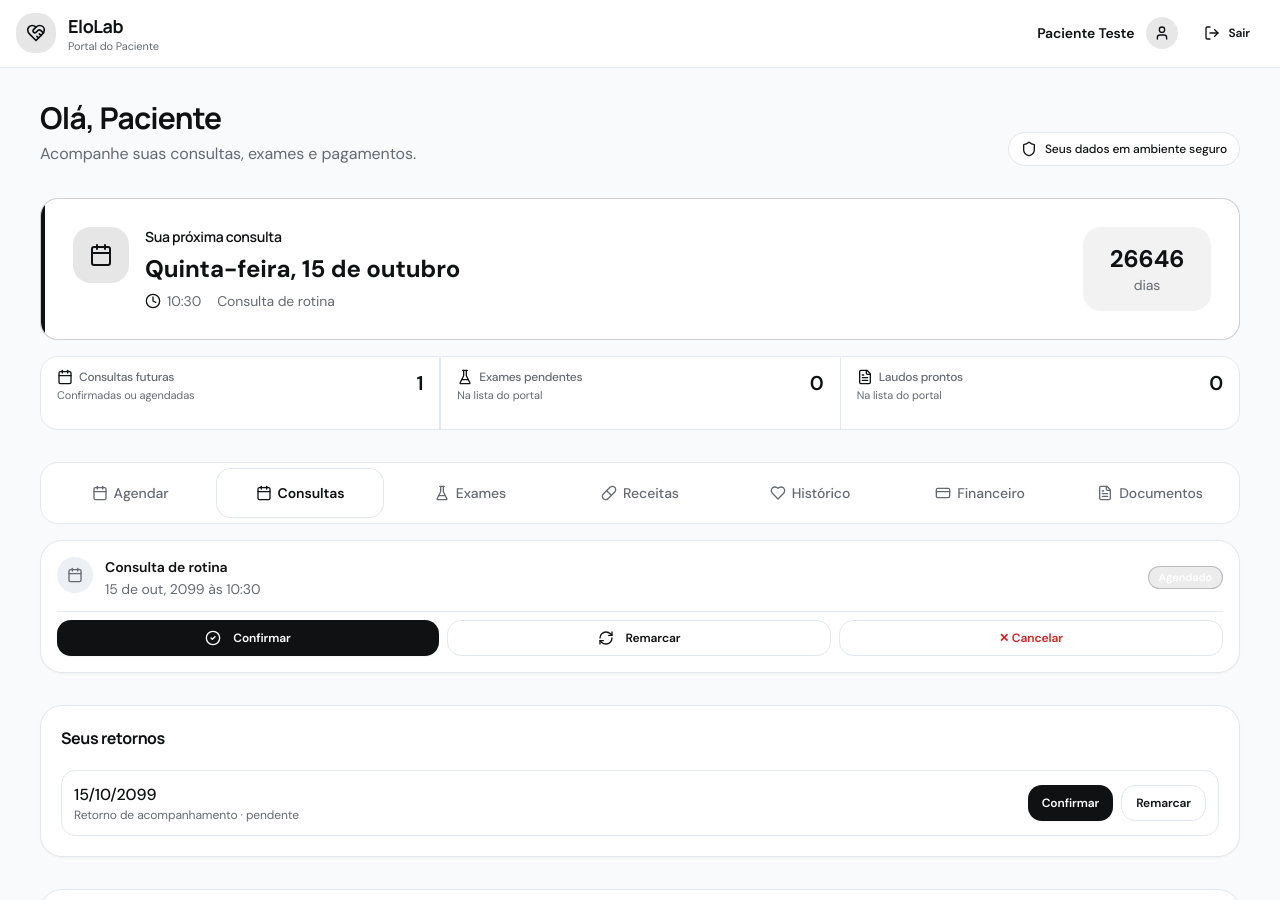
Test: PortalPaciente — cancelamento de consulta › mantém o diálogo aberto e mostra erro se o cancelamento falhar
This screenshot has width=1280, height=900.
Click the button "✕ Cancelar".
click(1031, 638)  # box [839,620,1223,656]
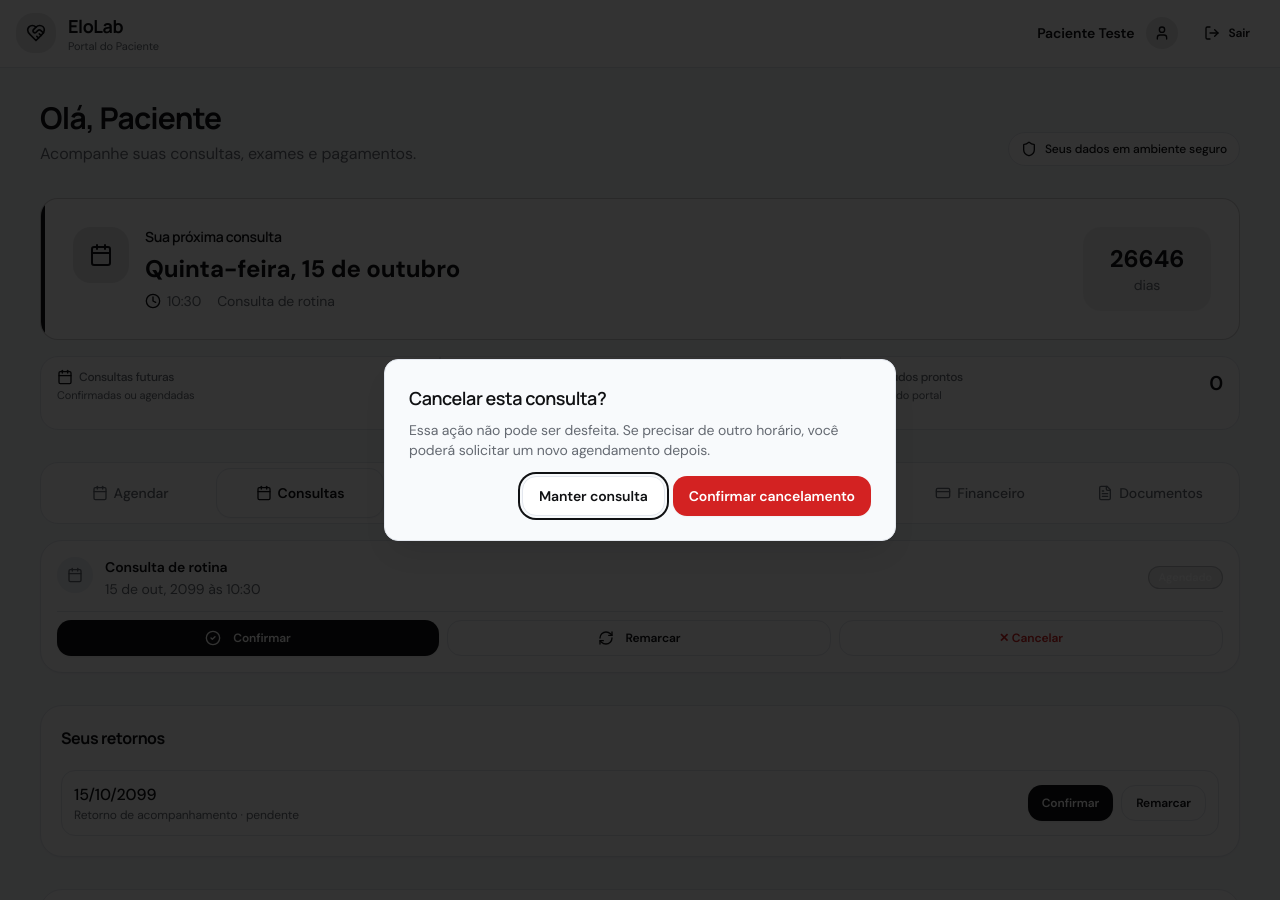
Check: the dialog is shown, box [384,359,896,541]
Click the button "Confirmar cancelamento".
click(772, 496)  # box [673,476,871,516]
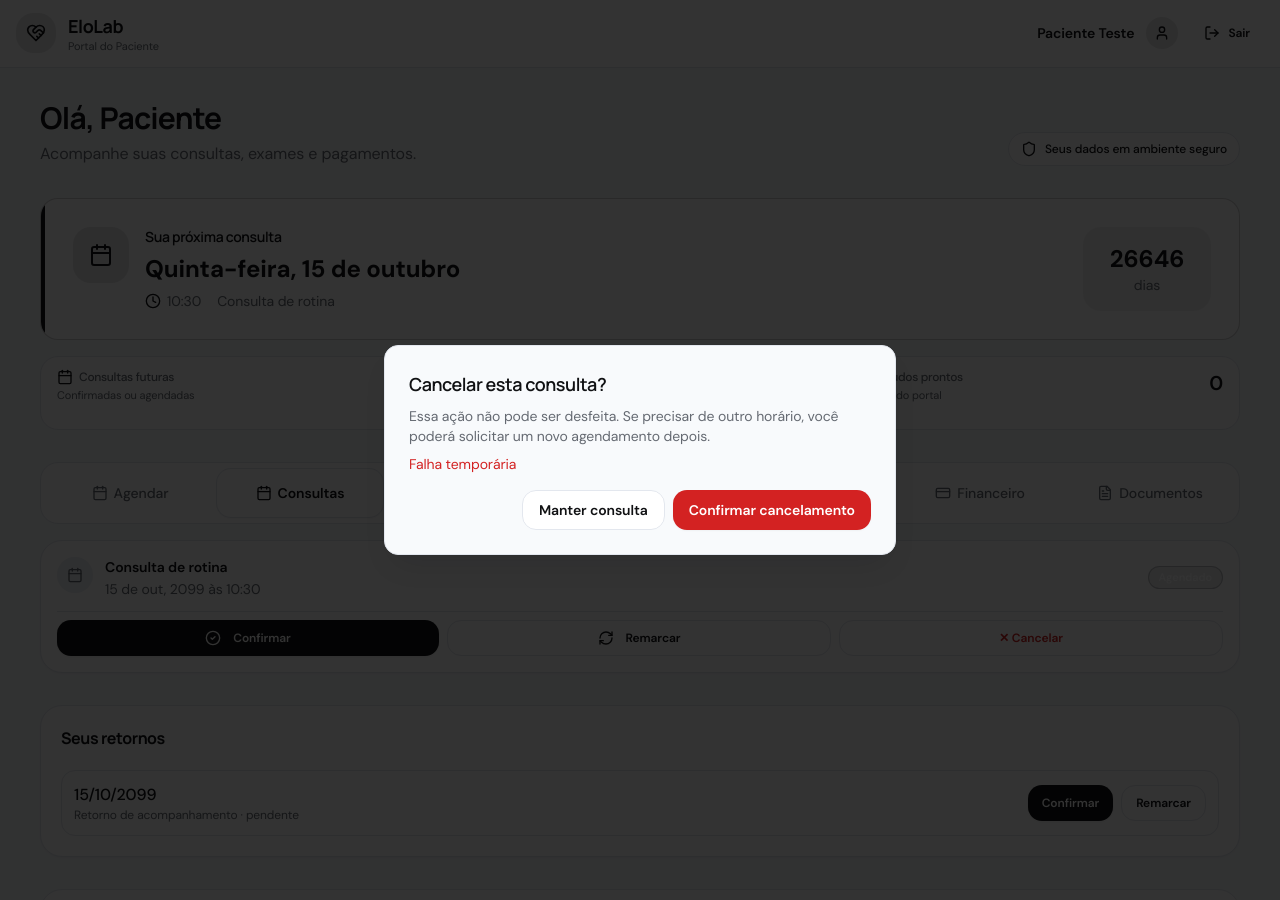
Check: the button "Confirmar cancelamento" is enabled, box [673,490,871,530]
Check: the button "Manter consulta" is enabled, box [522,490,665,530]
Check: the message reads "Falha temporária", box [409,455,516,473]
